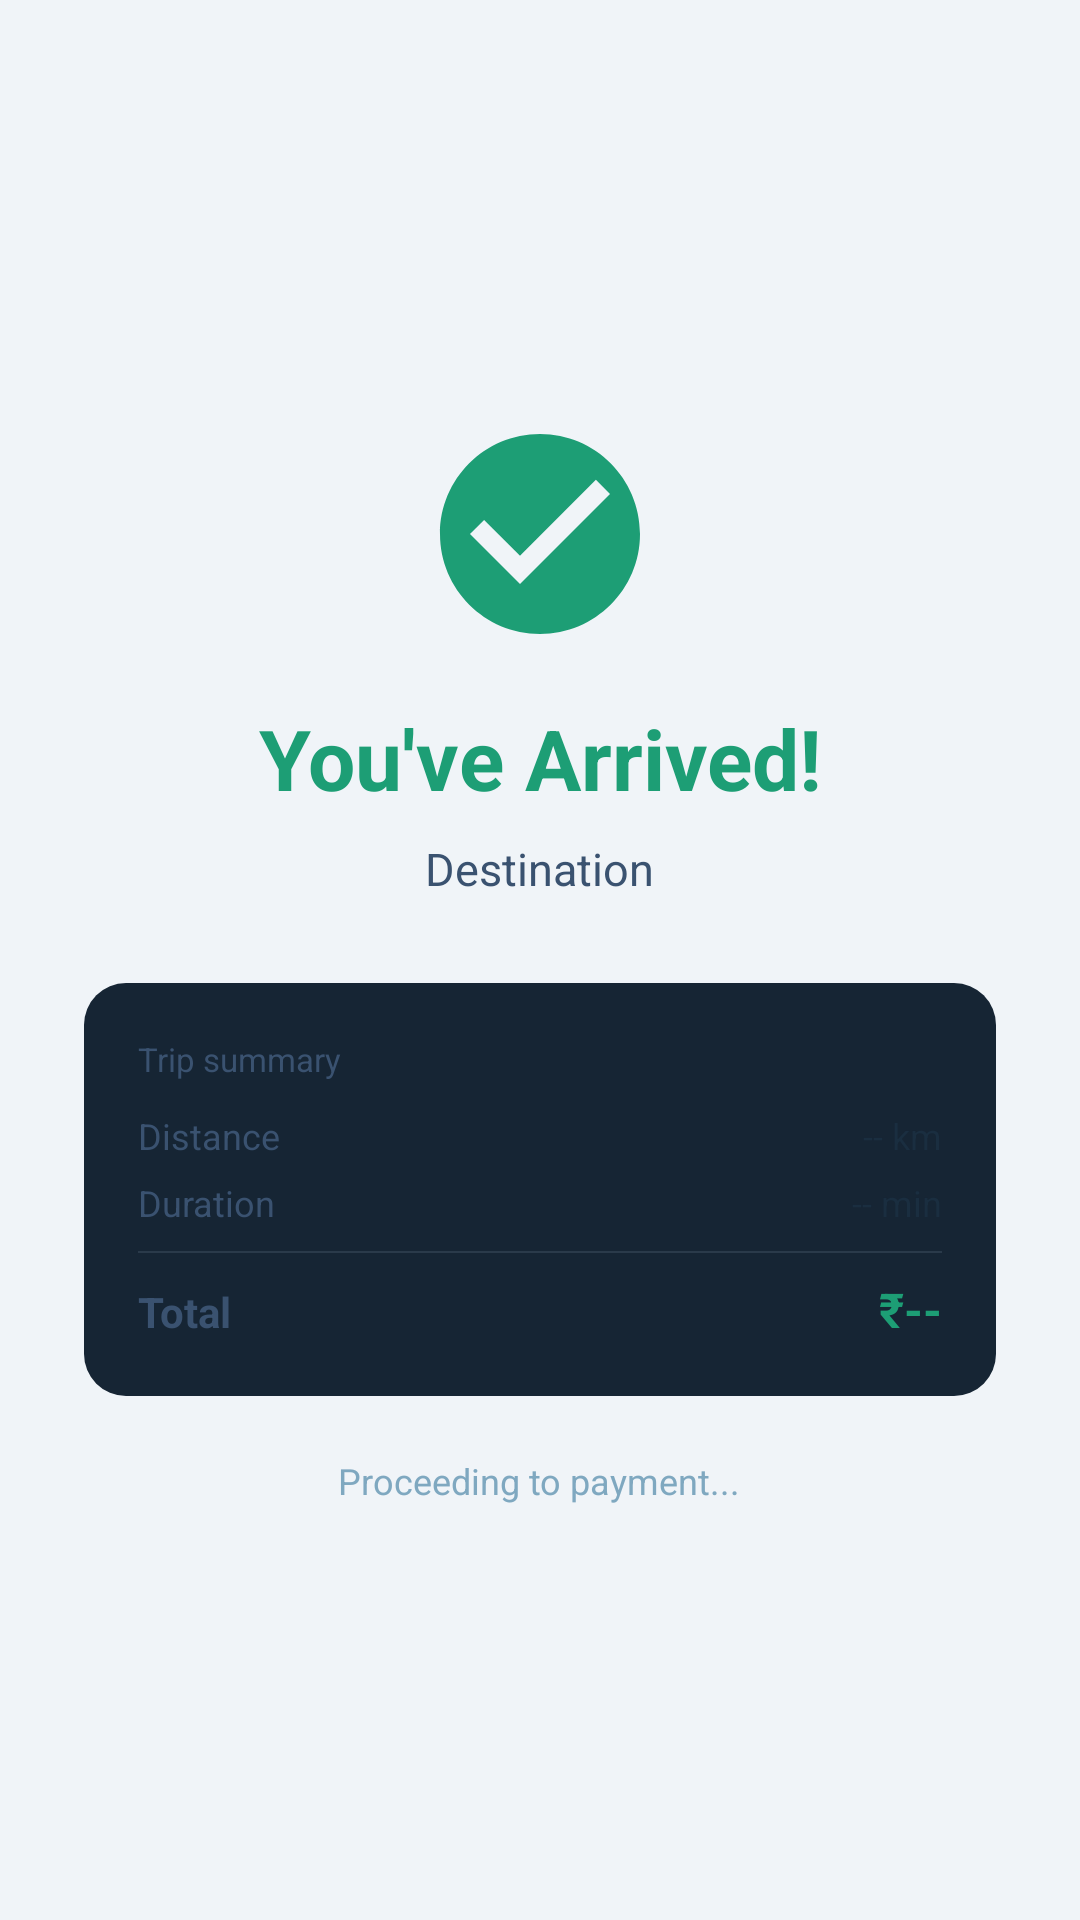

Named icons in this screenshot (1080px×1920px) and their centers, point (x, y):
check circle: point (540, 534)
